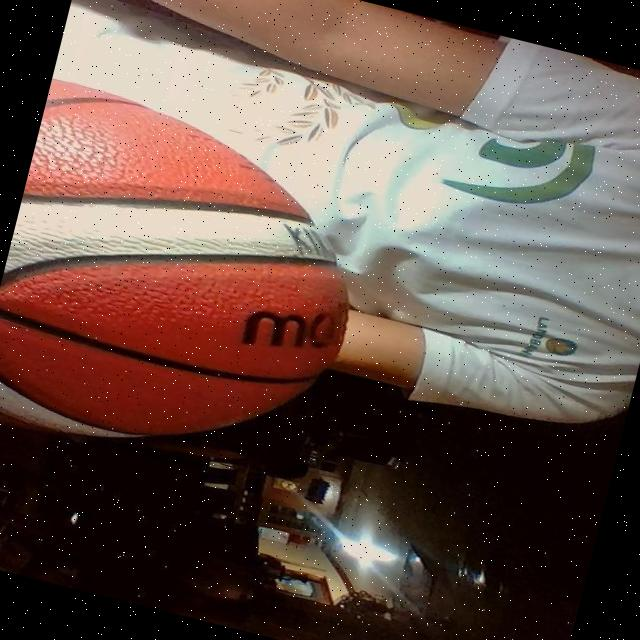ball: (0, 75, 391, 503)
